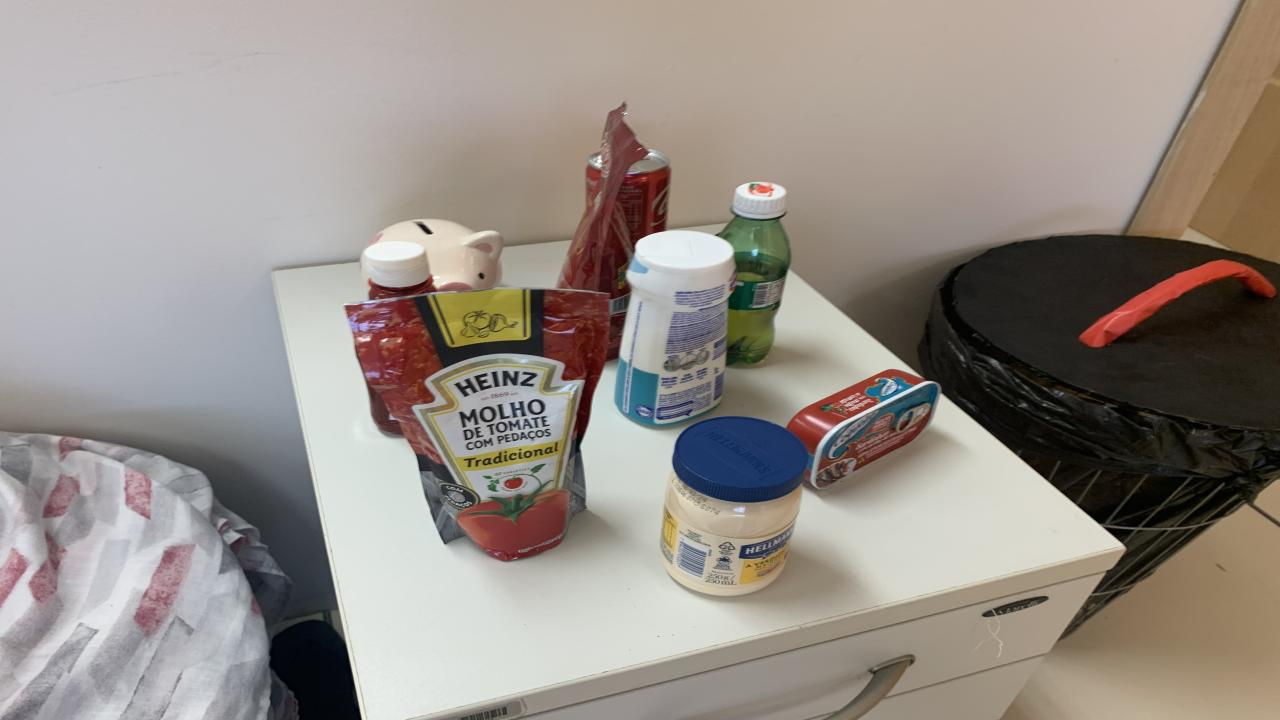Cleaner-Cleanup_Items: (615, 231, 735, 428)
Coke-Drinks: (618, 150, 670, 246), (585, 152, 602, 204)
Guarana-Drinks: (718, 182, 790, 366)
Ketchup-Pantry_Items: (362, 242, 435, 300), (368, 388, 402, 435)
Mayonnaise-Pantry_Items: (660, 416, 808, 596)
Pig_Safe-Miscellaneous: (370, 218, 502, 291)
Tomato_Sauce-Pantry_Items: (345, 289, 608, 561), (558, 103, 648, 300), (608, 308, 625, 358)
Tuna_Can-Pantry_Items: (788, 369, 940, 489)
